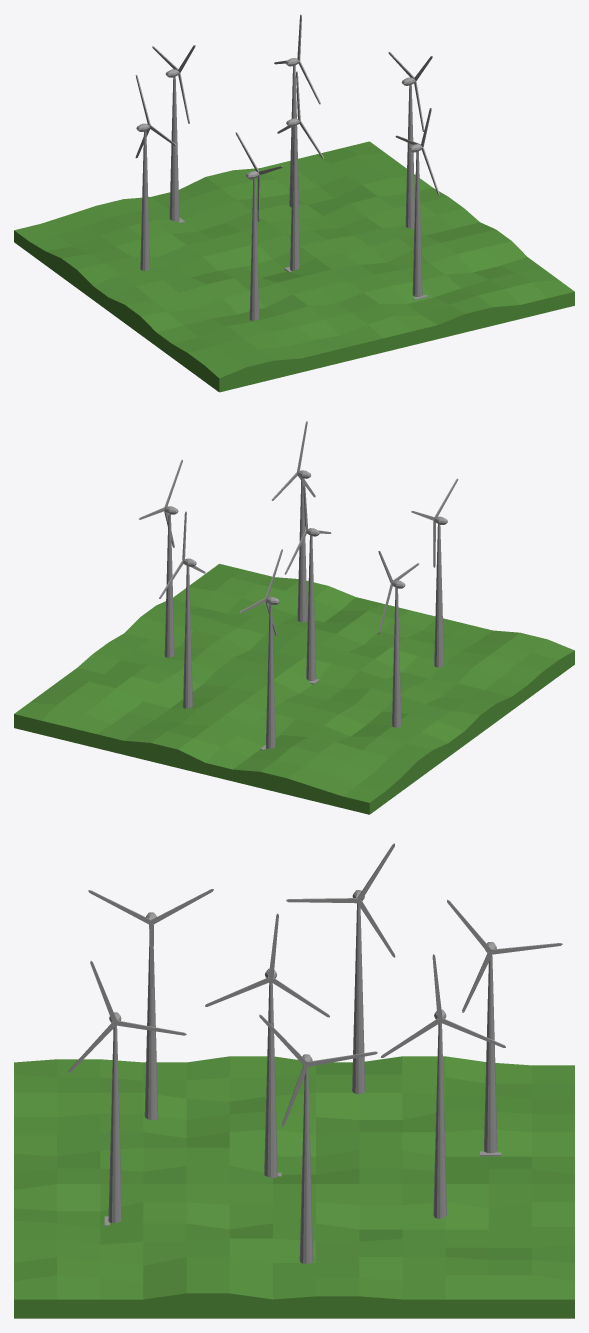
Rendered from Windmill_3.fbx.
3 renders of one model, top to bottom at view 1: azimuth 30°, elevation 25°; view 2: azimuth 150°, elevation 25°; view 3: azimuth 270°, elevation 25°, orthographic. The views are drawn at different scales.
Parts seen in each view (by area): view 1: Plane, Plane.000; view 2: Plane, Plane.000; view 3: Plane, Plane.000.
Boxes of the visible parts, bbox=[...] form: Plane: bbox=[14, 141, 574, 392]; Plane.000: bbox=[135, 14, 439, 320]; Plane: bbox=[14, 564, 574, 814]; Plane.000: bbox=[139, 421, 458, 749]; Plane: bbox=[14, 1056, 574, 1318]; Plane.000: bbox=[68, 843, 562, 1263].
Size of the model in its own units: 1668 by 932 by 1668.
